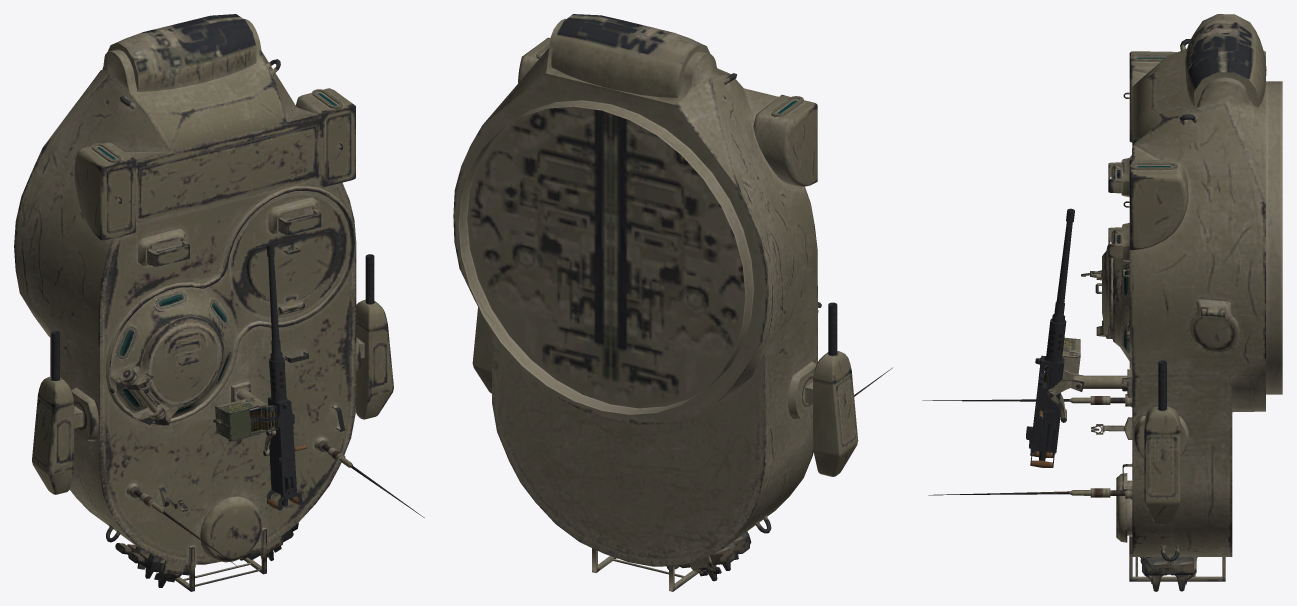
Rendered from Turret_01.glb.
The picture shows the model from 3 angles, left to right: view 1: azimuth 30°, elevation 25°; view 2: azimuth 150°, elevation 25°; view 3: azimuth 270°, elevation 25°; orthographic projection. The views are drawn at different scales.
Parts seen in each view (by area): view 1: set_0_group_0; view 2: set_0_group_0; view 3: set_0_group_0.
Part boxes in pixels (<box>): set_0_group_0: <box>14,14,424,591</box>; set_0_group_0: <box>453,14,892,591</box>; set_0_group_0: <box>922,14,1282,591</box>.
Bounding box in the file's own units: 2.37 × 3.42 × 2.13.
1 material, 1 textured.
